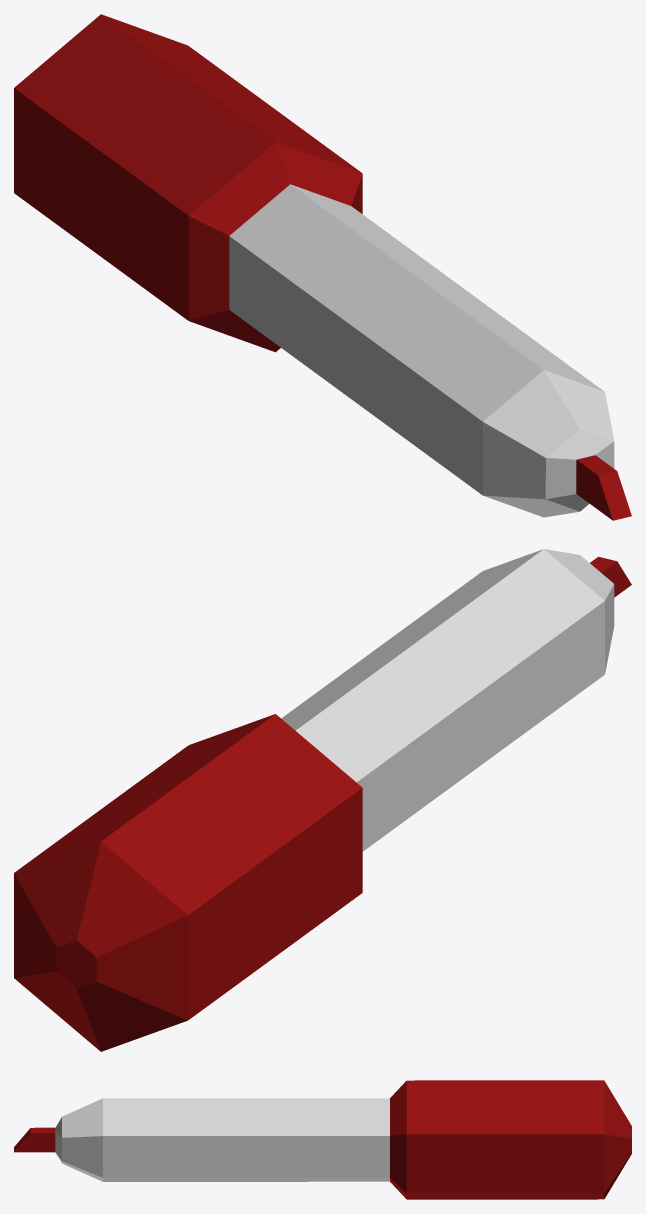
The model's file is PenMarkerV1Red.fbx.
3 renders of one model, top to bottom at view 1: azimuth 30°, elevation 25°; view 2: azimuth 150°, elevation 25°; view 3: azimuth 270°, elevation 25°, orthographic. The views are drawn at different scales.
Parts seen in each view (by area): view 1: PenMarkerV1Red; view 2: PenMarkerV1Red; view 3: PenMarkerV1Red.
Boxes of the visible parts, box(x1,y1,x2,y2) form: PenMarkerV1Red: box(14, 14, 631, 520); PenMarkerV1Red: box(14, 549, 631, 1051); PenMarkerV1Red: box(14, 1080, 631, 1199).
Bounding box in the file's own units: 1.93 × 2.23 × 10.48.
